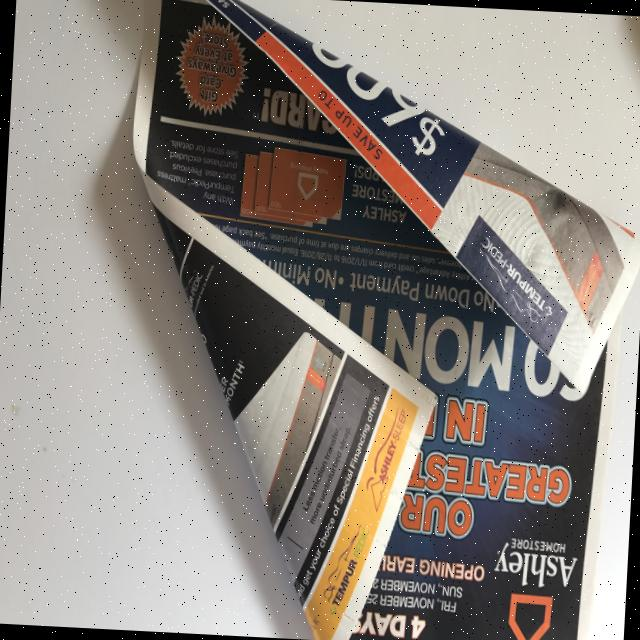paper: (105, 0, 640, 640)
